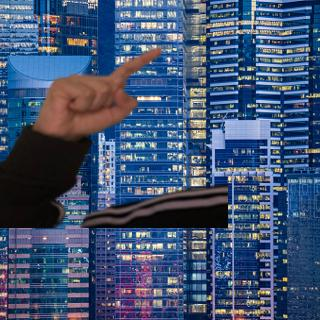WHY: (34, 43, 168, 139)
